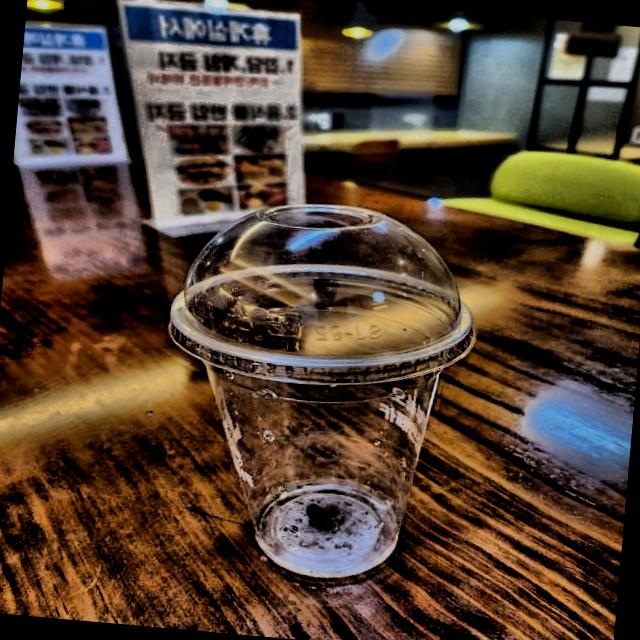plastic cup: (105, 153, 548, 640)
